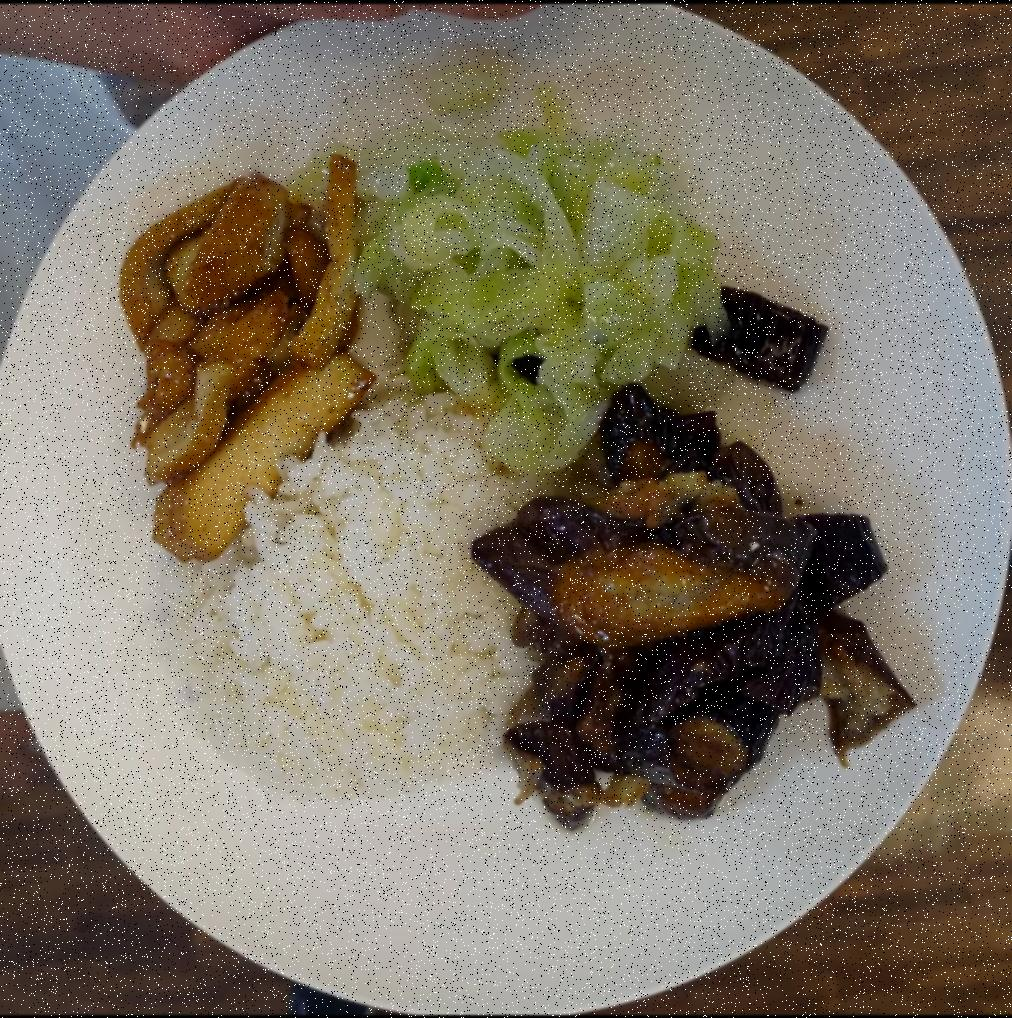big fried chicken leg: (15, 9, 1011, 1006)
big herbal chicken leg: (160, 394, 561, 826)
braised fish fillet: (475, 290, 907, 846), (353, 96, 726, 476), (100, 154, 384, 556)
